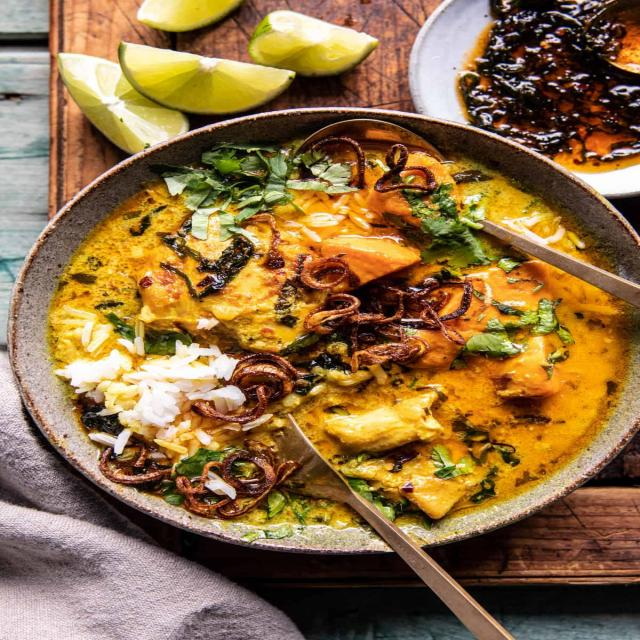chicken: (21, 152, 622, 546)
